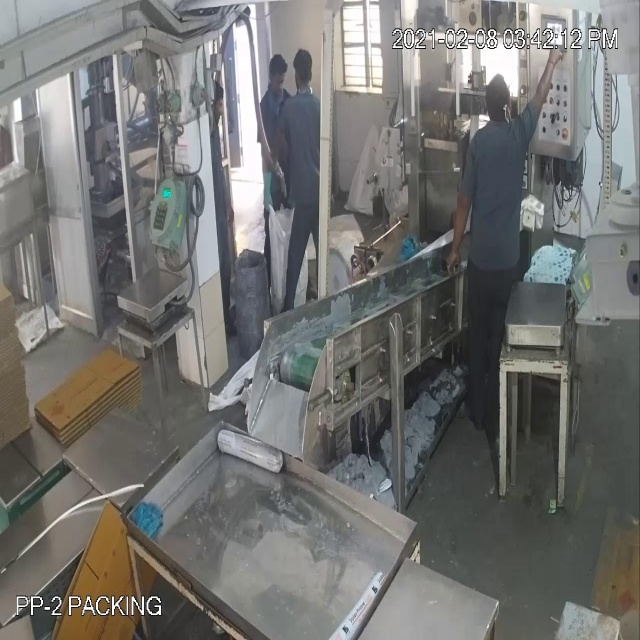Sin_guantes: (524, 35, 567, 124), (439, 175, 474, 282)
